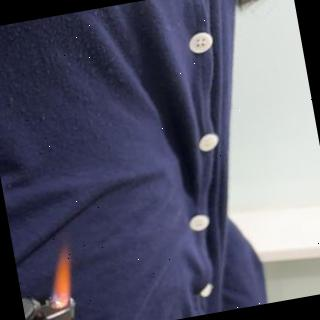fire: (40, 240, 80, 312)
